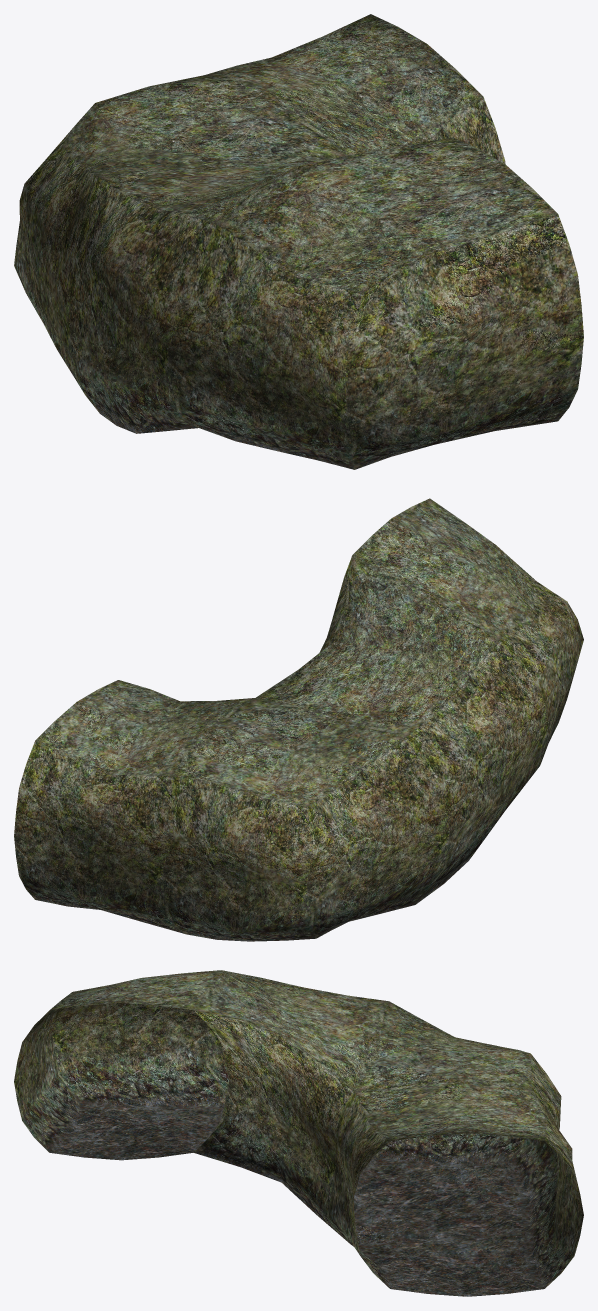
Rendered from thm_all_cave_flatland_s03_damprock_r18_r18.fbx.
3 views of the same model, one above another, from view 1: azimuth 30°, elevation 25°; view 2: azimuth 150°, elevation 25°; view 3: azimuth 270°, elevation 25° (orthographic). The views are drawn at different scales.
Parts seen in each view (by area): view 1: mesh_node; view 2: mesh_node; view 3: mesh_node.
Boxes of the visible parts, x1,y1,x2,y2 form: mesh_node: [14, 14, 583, 469]; mesh_node: [14, 498, 583, 941]; mesh_node: [14, 970, 583, 1296].
Size of the model in its own units: 16.71 by 12.57 by 26.76.
